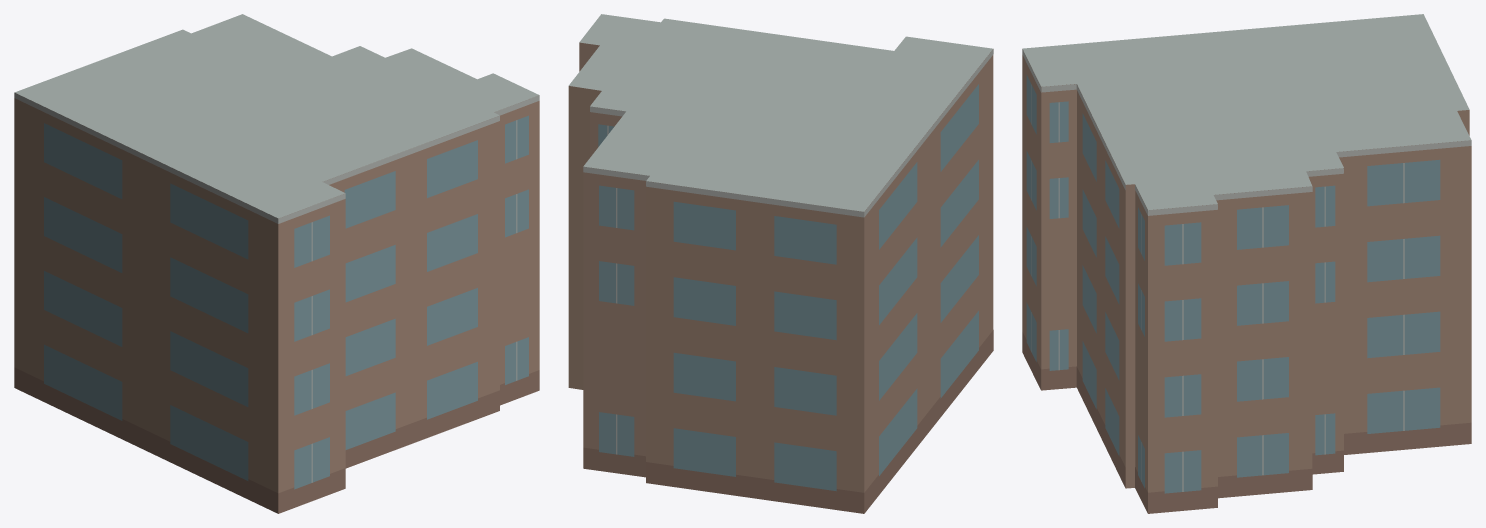
The model's file is survey-upis-32989766.glb.
The picture shows the model from 3 angles, left to right: view 1: azimuth 30°, elevation 25°; view 2: azimuth 150°, elevation 25°; view 3: azimuth 270°, elevation 25°; orthographic projection. The views are drawn at different scales.
Visible parts, largest first — view 1: survey-upis-32989766.tmp; view 2: survey-upis-32989766.tmp; view 3: survey-upis-32989766.tmp.
Part boxes in pixels (x1,y1,x2,y2): survey-upis-32989766.tmp: [14, 14, 539, 513]; survey-upis-32989766.tmp: [568, 14, 993, 513]; survey-upis-32989766.tmp: [1022, 14, 1471, 513].
Size of the model in its own units: 18.02 by 13 by 17.44.
